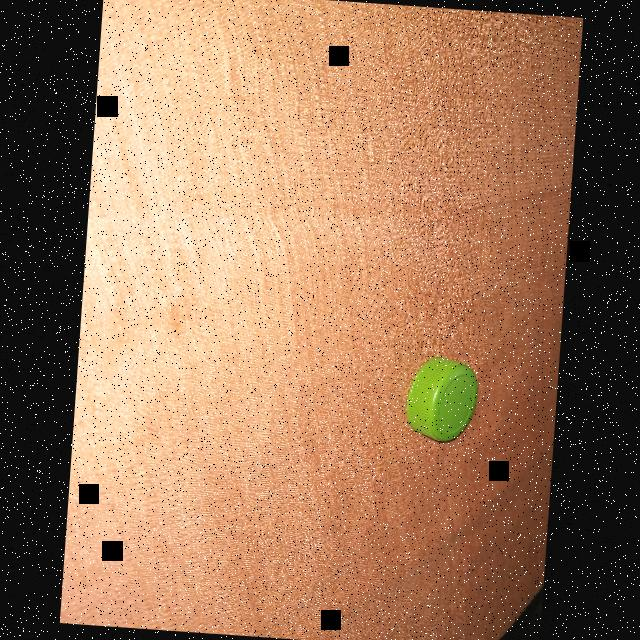plastic_bottle_cap: (402, 354, 478, 443)
